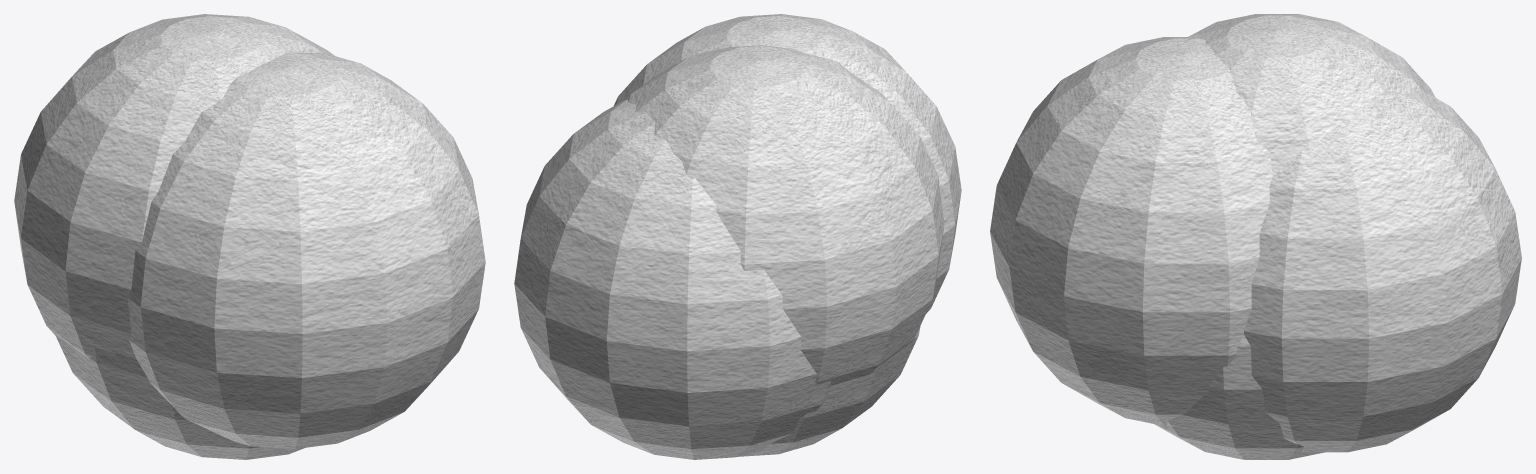
The model's file is drek2.gltf.
3 renders of one model, left to right at view 1: azimuth 30°, elevation 25°; view 2: azimuth 150°, elevation 25°; view 3: azimuth 270°, elevation 25°, orthographic. The views are drawn at different scales.
Parts seen in each view (by area): view 1: Sphere.001; view 2: Sphere.001; view 3: Sphere.001.
Part boxes in pixels (x1,y1,x2,y2): Sphere.001: (14, 14, 485, 459); Sphere.001: (514, 14, 961, 459); Sphere.001: (990, 14, 1521, 459).
Bounding box in the file's own units: 1.04 × 1.09 × 1.3.
1 material, 1 textured.
